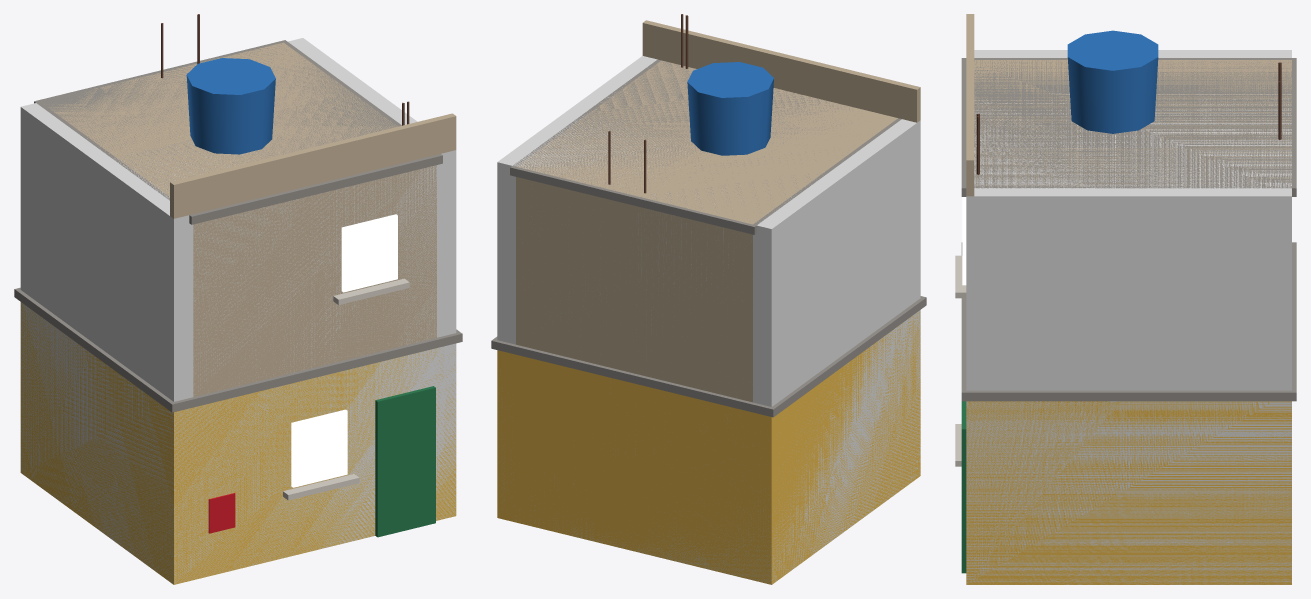
File: casa_favela_3.glb
3 renders of one model, left to right at view 1: azimuth 30°, elevation 25°; view 2: azimuth 150°, elevation 25°; view 3: azimuth 270°, elevation 25°, orthographic. The views are drawn at different scales.
Visible parts, largest first — view 1: casa_favela_3_Malla, COL_0; view 2: casa_favela_3_Malla, COL_0; view 3: COL_0, casa_favela_3_Malla.
Part boxes in pixels (x1=…): casa_favela_3_Malla: x1=14, y1=14, x2=462, y2=584; COL_0: x1=20, y1=38, x2=456, y2=584; casa_favela_3_Malla: x1=491, y1=14, x2=926, y2=584; COL_0: x1=497, y1=56, x2=920, y2=584; COL_0: x1=966, y1=50, x2=1291, y2=584; casa_favela_3_Malla: x1=955, y1=14, x2=1296, y2=584.
Size of the model in its own units: 4.48 by 6.3 by 4.3.
